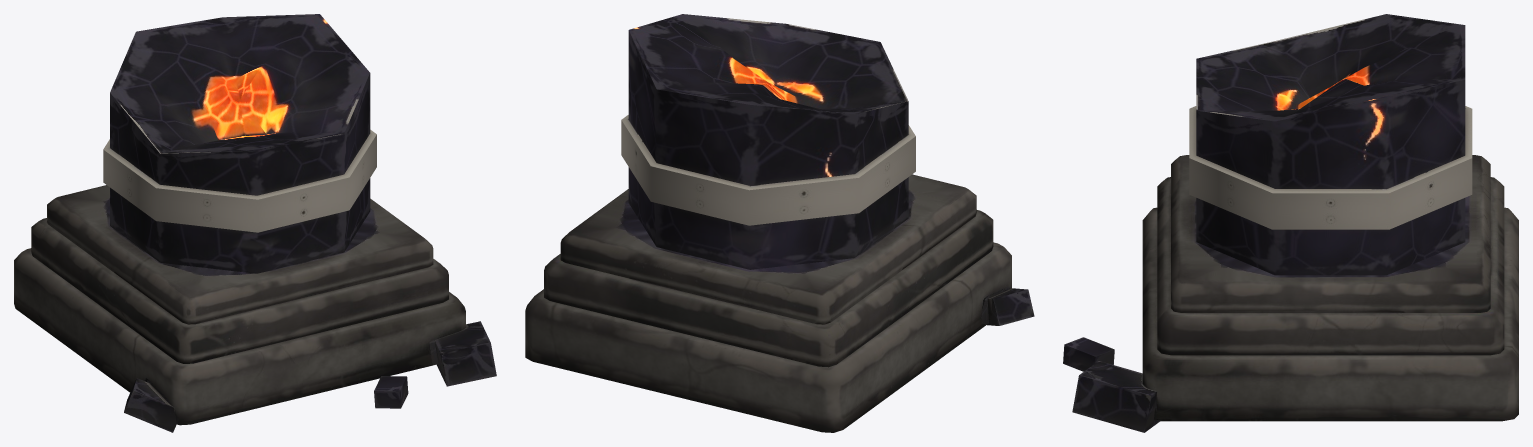
The model's file is hellforge_pillar_low.glb.
3 renders of one model, left to right at view 1: azimuth 30°, elevation 25°; view 2: azimuth 150°, elevation 25°; view 3: azimuth 270°, elevation 25°, orthographic. The views are drawn at different scales.
Visible parts, largest first — view 1: hellforge_pillar_low; view 2: hellforge_pillar_low; view 3: hellforge_pillar_low.
Part boxes in pixels (left/top/right/bottom): hellforge_pillar_low: left=14, top=14, right=496, bottom=432; hellforge_pillar_low: left=525, top=14, right=1034, bottom=432; hellforge_pillar_low: left=1063, top=14, right=1518, bottom=432.
Bounding box in the file's own units: 1.64 × 1.29 × 1.7.
1 material, 1 textured.
